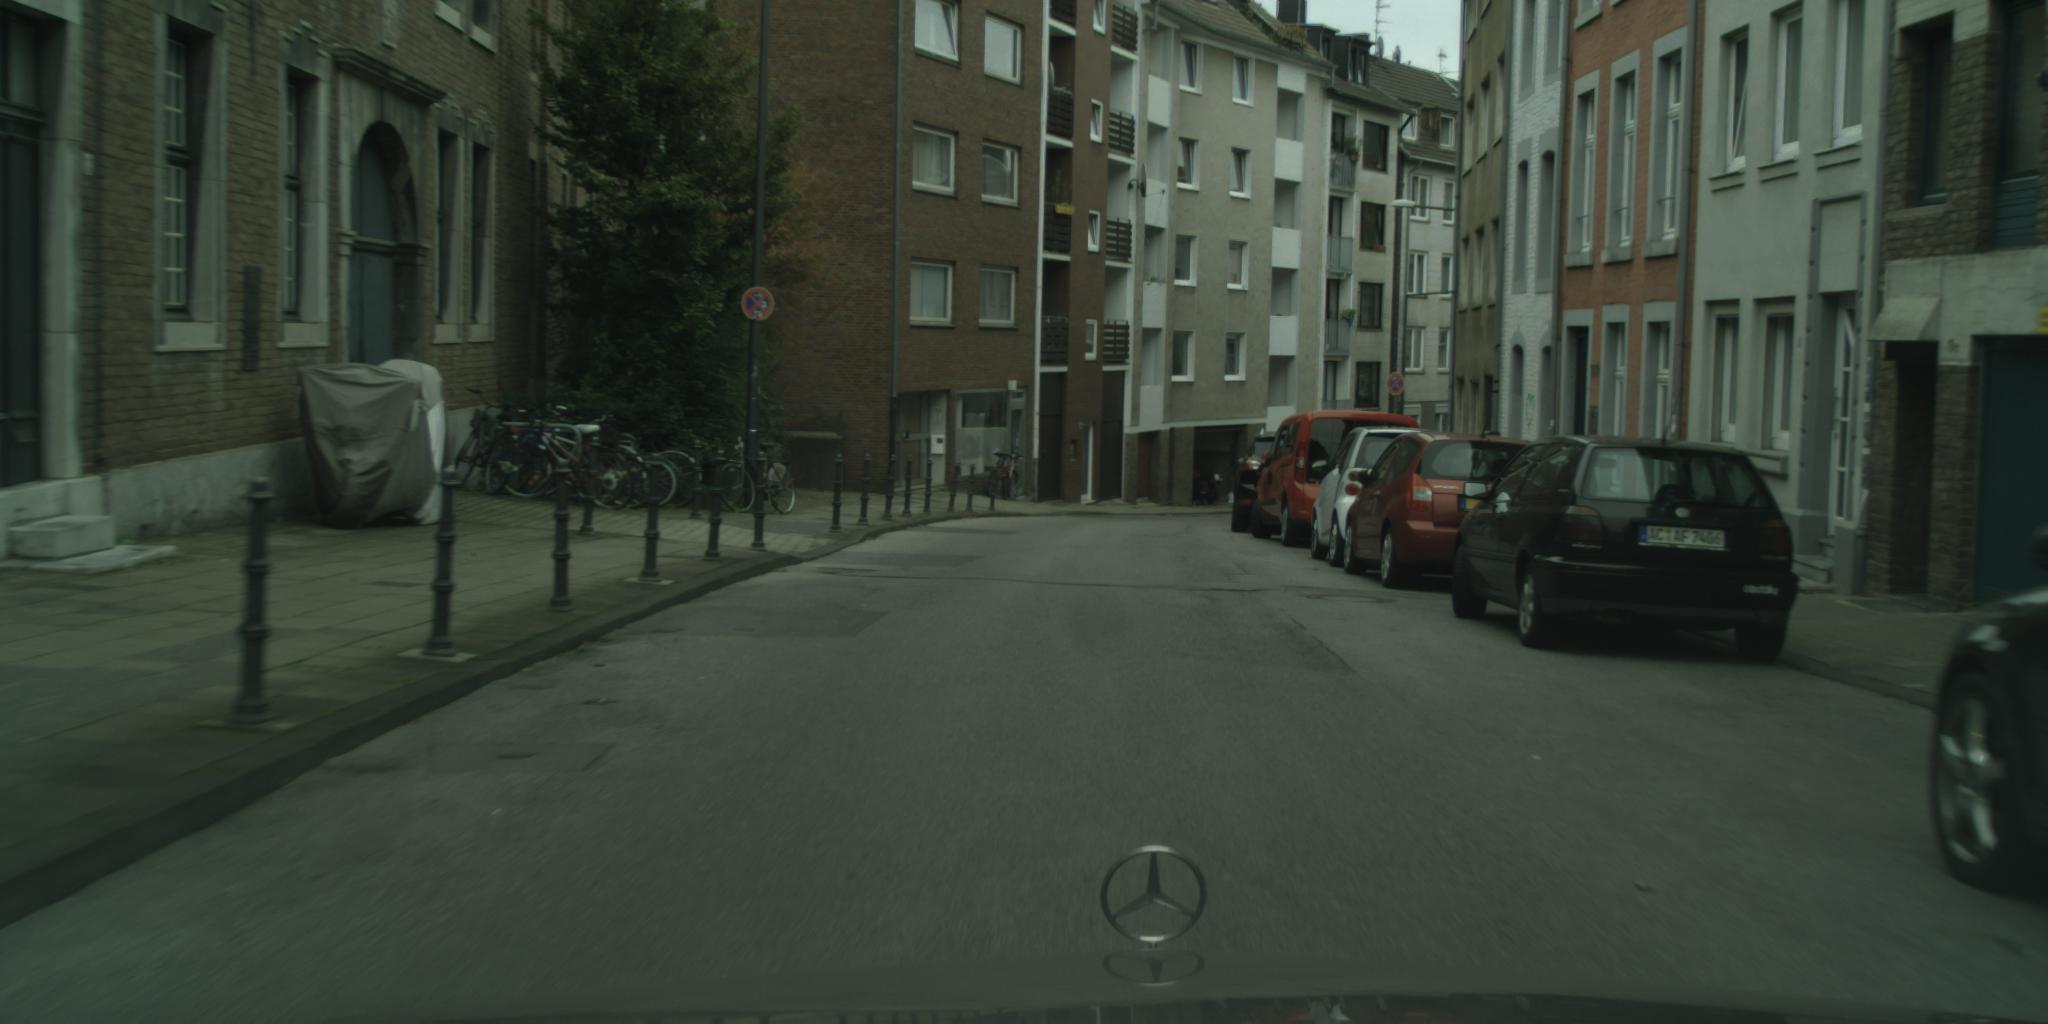bicycle: (718, 438, 795, 516), (987, 452, 1021, 500)
car: (1452, 391, 1801, 664), (1925, 526, 2048, 896), (1343, 431, 1533, 590), (1249, 411, 1422, 546), (1310, 428, 1441, 567), (1230, 432, 1290, 534)
